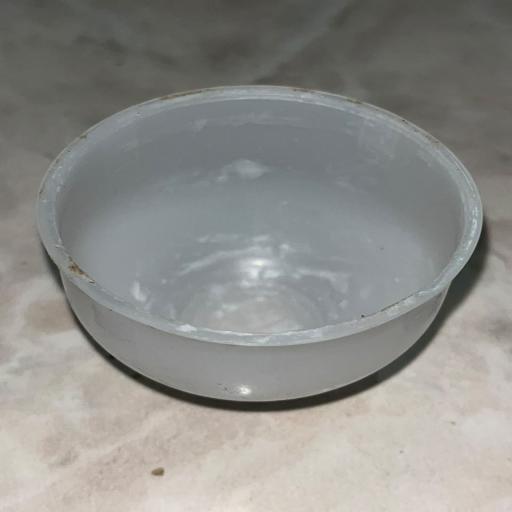PET: (13, 60, 505, 438)
